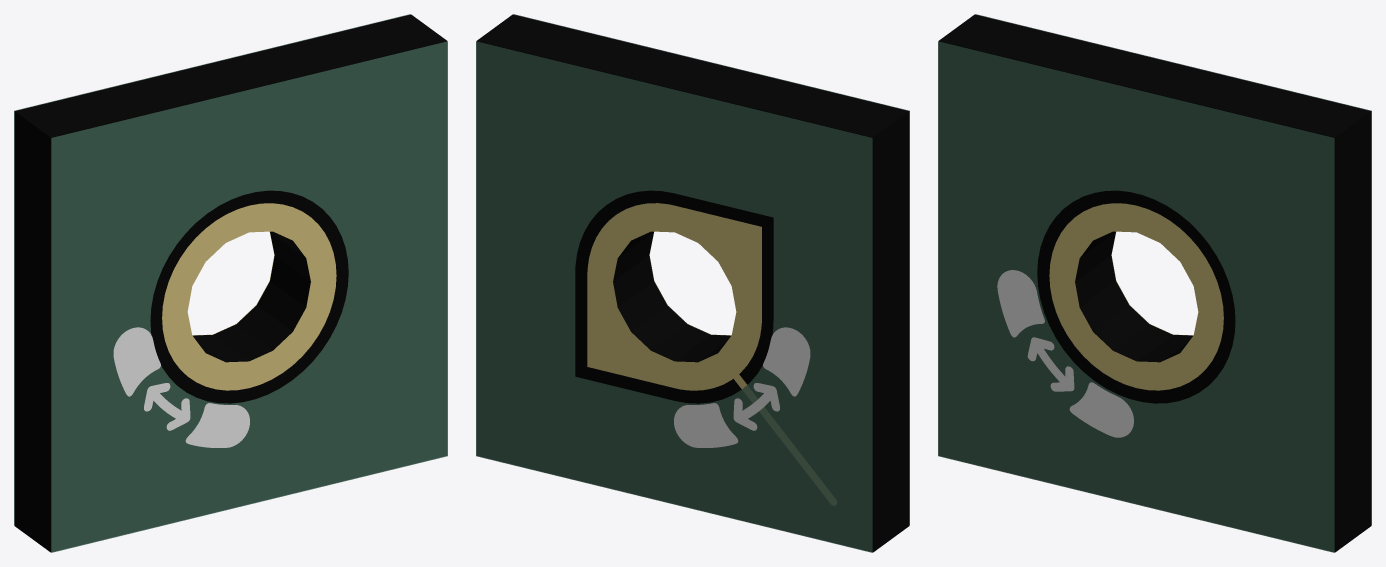
File: jacdac_data_mh_0.1.glb
3 views of the same model, side by side, from view 1: azimuth 30°, elevation 25°; view 2: azimuth 150°, elevation 25°; view 3: azimuth 330°, elevation 25° (orthographic).
Visible parts, largest first — view 1: SHAPE_1_IndexedFaceSet, SHAPE_6_IndexedFaceSet, SHAPE_2_IndexedFaceSet, SHAPE_5_IndexedFaceSet, SHAPE_8_IndexedFaceSet, SHAPE_4_IndexedFaceSet; view 2: SHAPE_1_IndexedFaceSet, SHAPE_4_IndexedFaceSet, SHAPE_2_IndexedFaceSet, SHAPE_3_IndexedFaceSet, SHAPE_7_IndexedFaceSet, SHAPE_6_IndexedFaceSet; view 3: SHAPE_1_IndexedFaceSet, SHAPE_6_IndexedFaceSet, SHAPE_2_IndexedFaceSet, SHAPE_5_IndexedFaceSet, SHAPE_8_IndexedFaceSet, SHAPE_4_IndexedFaceSet.
Boxes of the visible parts, bbox=[...] form: SHAPE_1_IndexedFaceSet: bbox=[50, 41, 446, 552]; SHAPE_6_IndexedFaceSet: bbox=[51, 41, 447, 552]; SHAPE_2_IndexedFaceSet: bbox=[14, 14, 446, 551]; SHAPE_5_IndexedFaceSet: bbox=[162, 203, 336, 390]; SHAPE_8_IndexedFaceSet: bbox=[113, 327, 249, 447]; SHAPE_4_IndexedFaceSet: bbox=[14, 14, 410, 525]; SHAPE_1_IndexedFaceSet: bbox=[477, 41, 873, 552]; SHAPE_4_IndexedFaceSet: bbox=[476, 41, 872, 552]; SHAPE_2_IndexedFaceSet: bbox=[477, 14, 909, 551]; SHAPE_3_IndexedFaceSet: bbox=[587, 203, 836, 504]; SHAPE_7_IndexedFaceSet: bbox=[674, 327, 810, 447]; SHAPE_6_IndexedFaceSet: bbox=[513, 14, 909, 525]; SHAPE_1_IndexedFaceSet: bbox=[939, 41, 1335, 552]; SHAPE_6_IndexedFaceSet: bbox=[938, 41, 1334, 552]; SHAPE_2_IndexedFaceSet: bbox=[939, 14, 1371, 551]; SHAPE_5_IndexedFaceSet: bbox=[1049, 203, 1223, 390]; SHAPE_8_IndexedFaceSet: bbox=[997, 270, 1133, 437]; SHAPE_4_IndexedFaceSet: bbox=[975, 14, 1371, 525].
Bounding box in the file's own units: 10 × 10 × 1.75.
